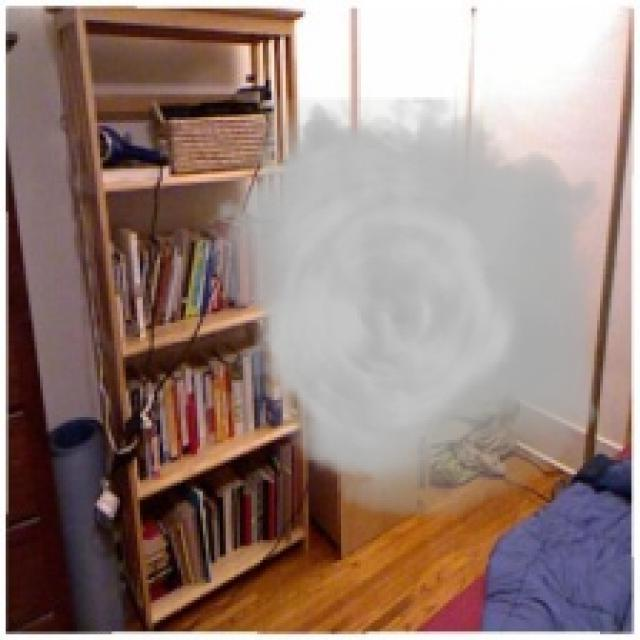Smoke: (195, 97, 620, 520)
